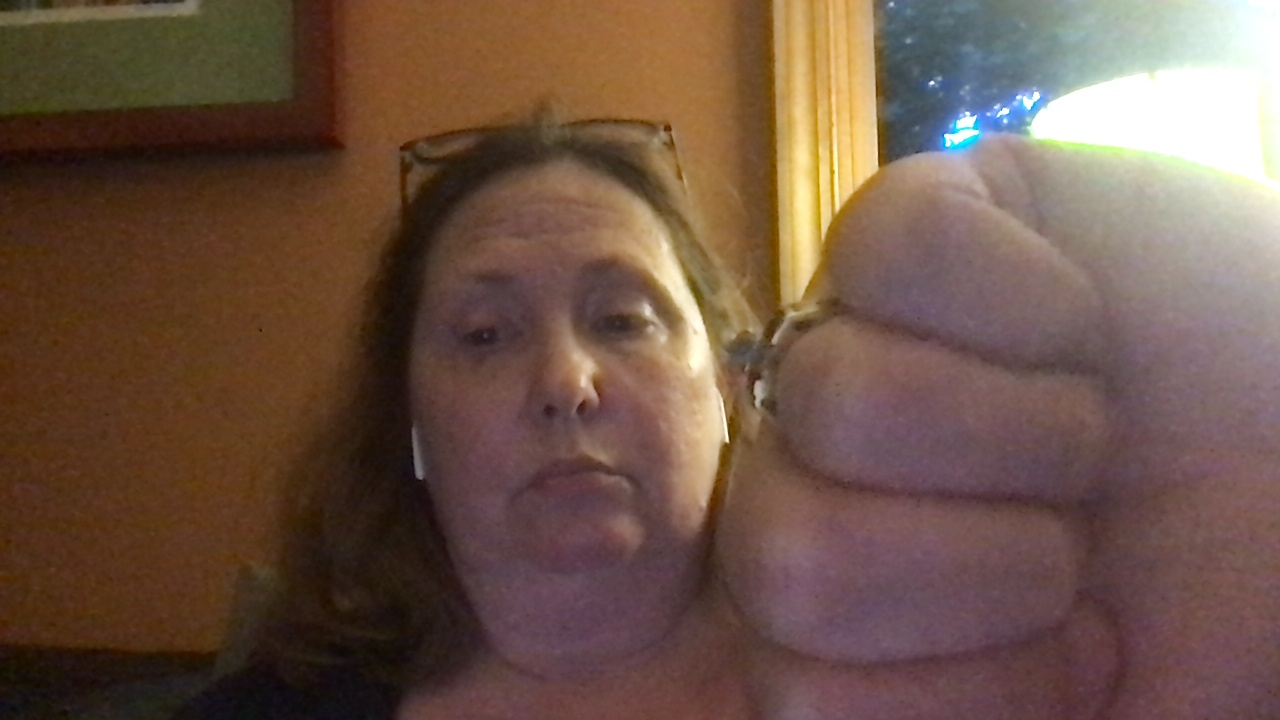thumbsdown: (711, 128, 1280, 720)
